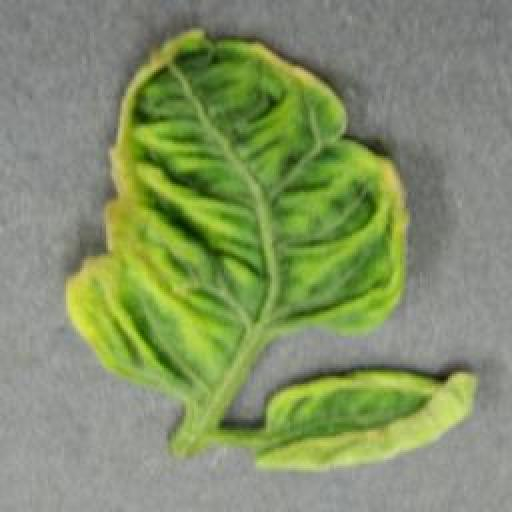Yellow Leaf Curl Virus: (66, 24, 408, 383), (248, 367, 478, 473)
